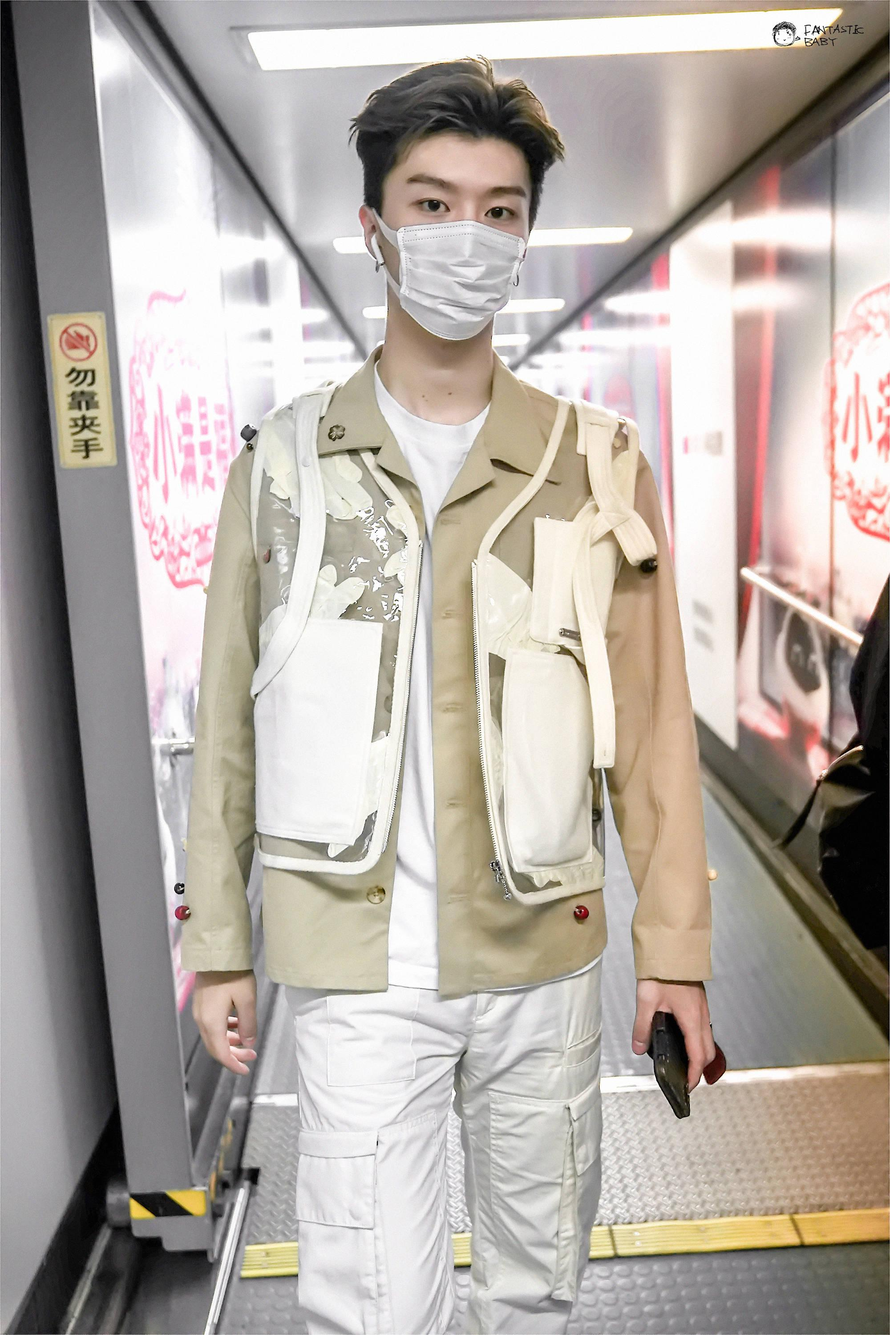OK: (391, 152, 527, 341)
